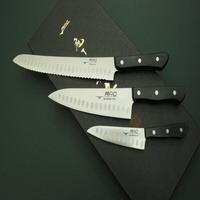knife: (8, 48, 178, 79), (39, 84, 191, 116), (76, 122, 194, 152)
